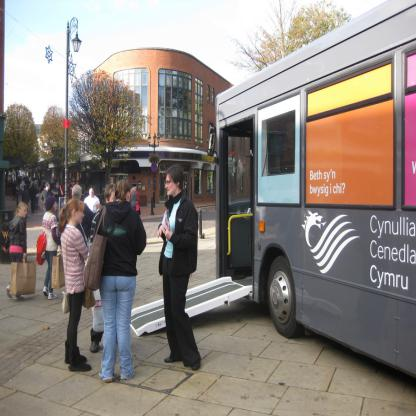Bus: (204, 0, 416, 374)
